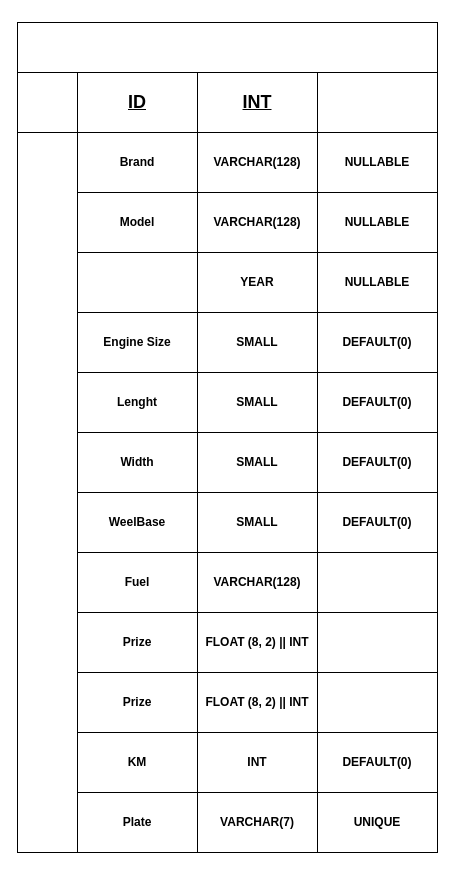
Some shapes in this 455 by 870 pixel diagram are drawn without their labels. The shapes that lost their labels are listed below. From the top down, each one's box as (x1, y1, x2, y2) in pixels, then its label:
(16, 22, 438, 72): Used Car
(16, 72, 78, 132): PK
(76, 252, 198, 312): Production Years
